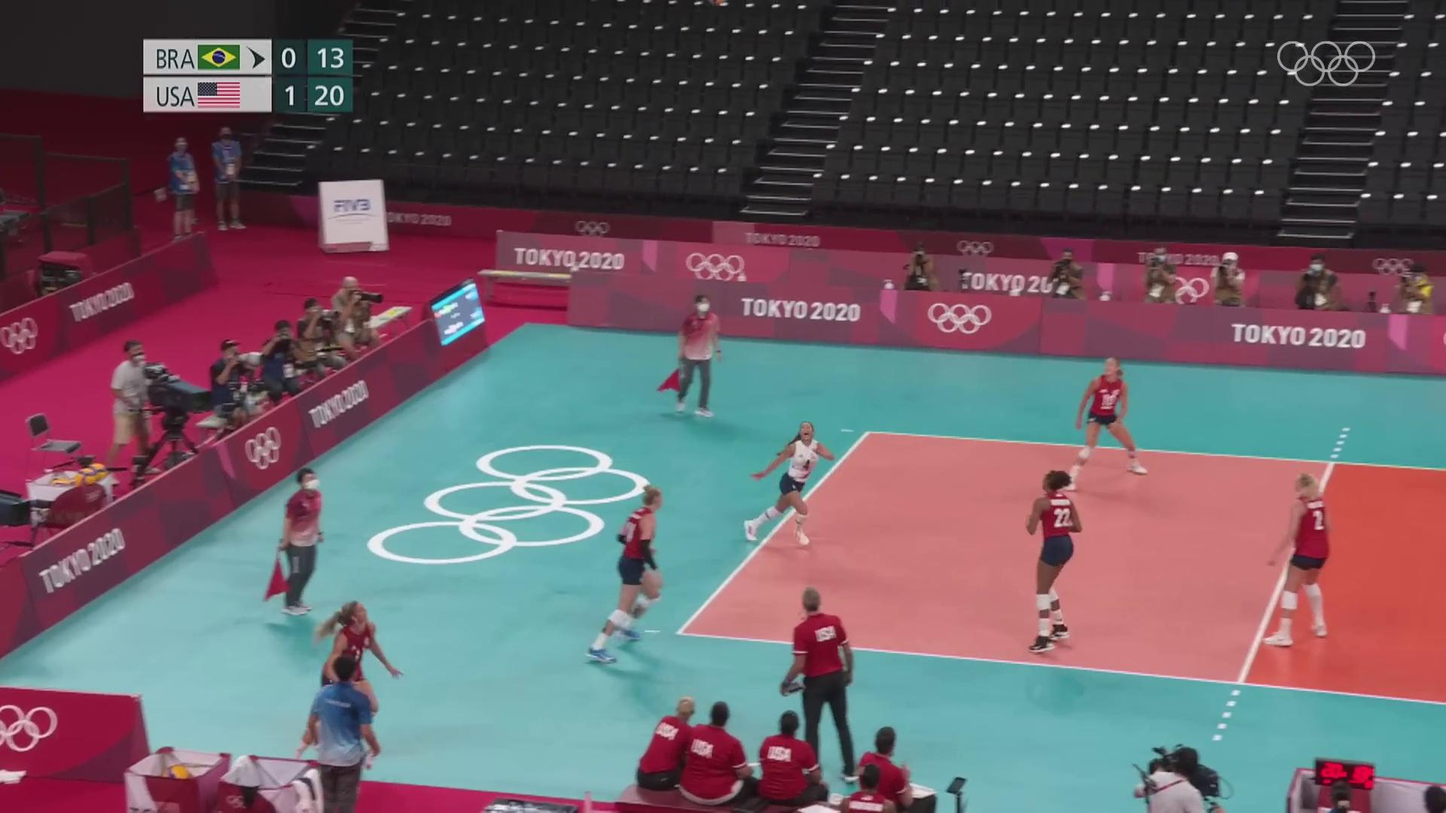player: (302, 601, 401, 774), (588, 475, 678, 662), (1264, 474, 1338, 647), (745, 421, 836, 550), (1018, 474, 1083, 650), (1073, 359, 1150, 478)
refree: (270, 464, 332, 613), (658, 291, 728, 420)
